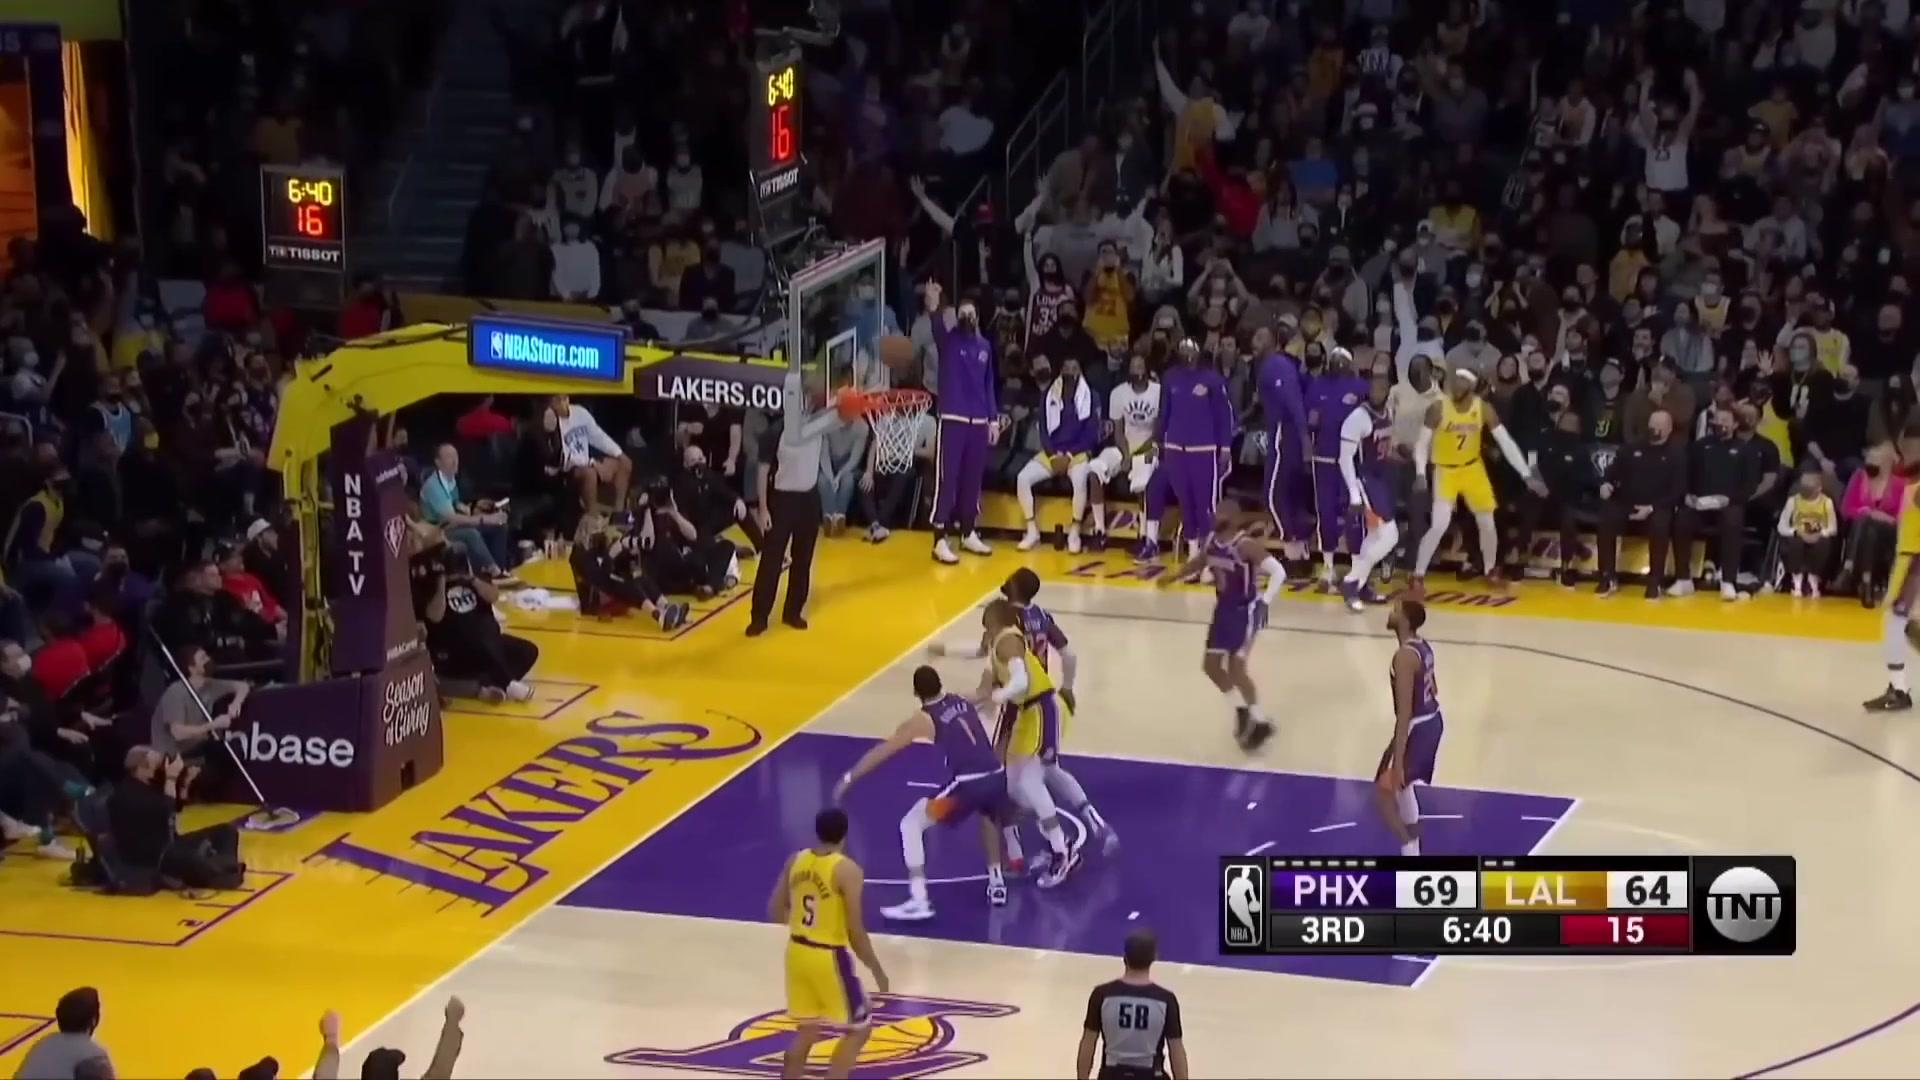foul: (831, 603, 1127, 920)
